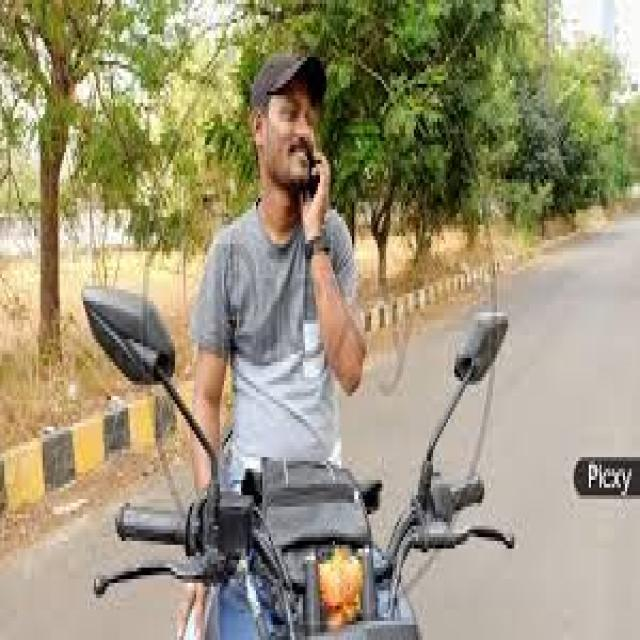USING_MOBILE: (311, 156, 373, 397)
